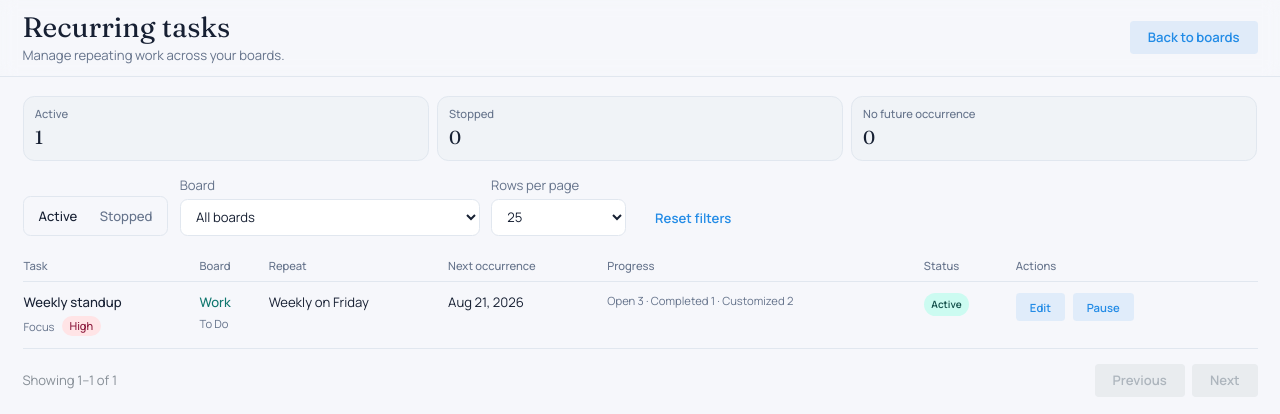
it: Recurring tasks page › shows an empty stopped state
This screenshot has width=1280, height=414.
Click the tab "Stopped" at [126, 216], box x1=89 y1=201 x2=164 y2=231
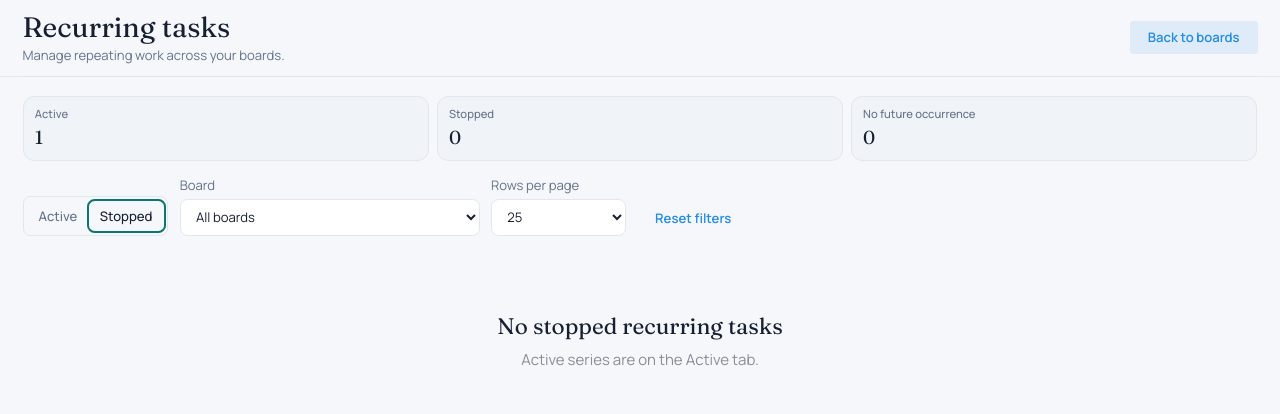
Now the heading "No stopped recurring tasks" is shown, box x1=497 y1=311 x2=783 y2=341
